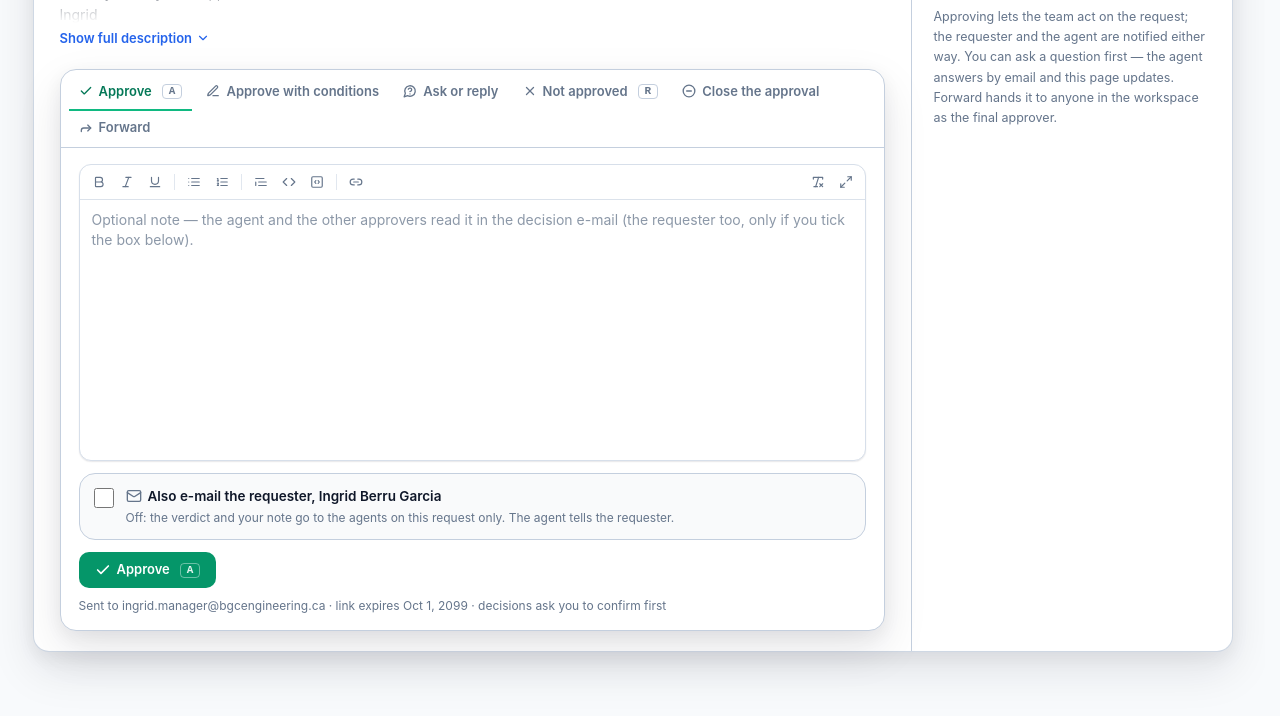
Test: PublicApprovalDecision (approval redesign) › approve posts and swaps the composer for the decided banner (focus lands on it)
(page scrolled)
Click the button "Approve A" at (147, 570), box [78,552,216,588]
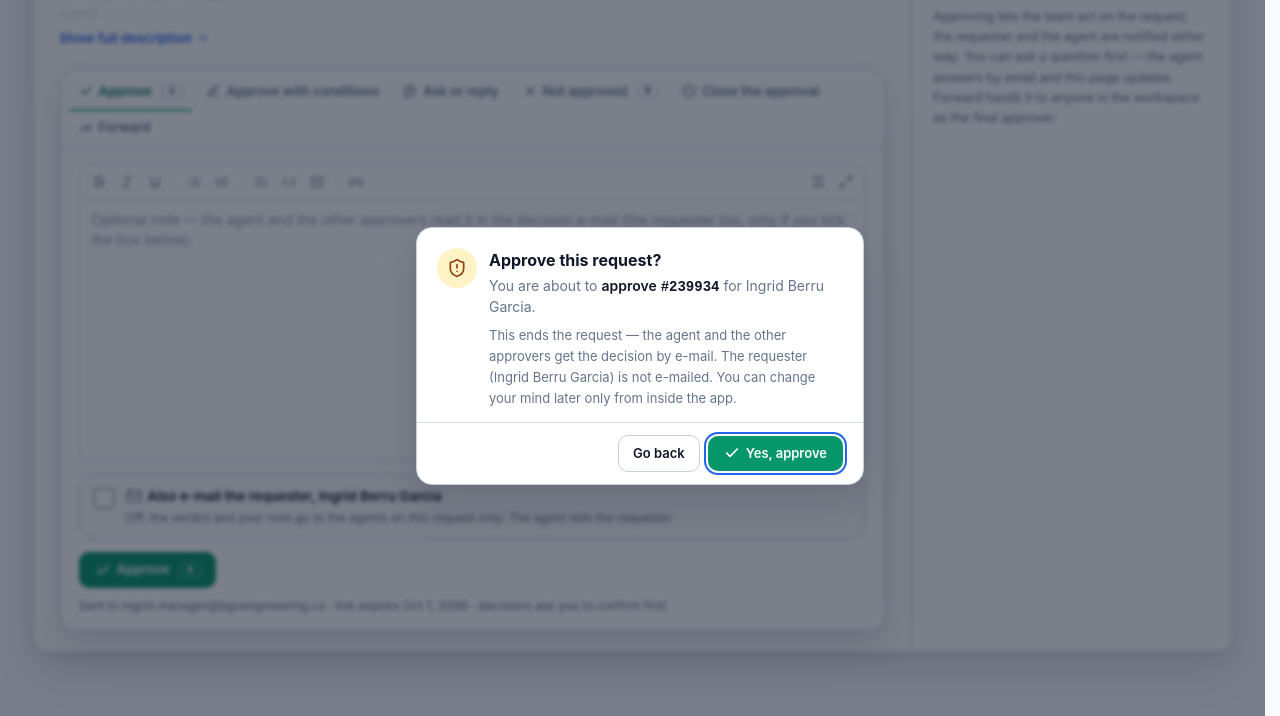
Click the button "Yes, approve" at (775, 453), box [708,436,843,471]
(page scrolled)
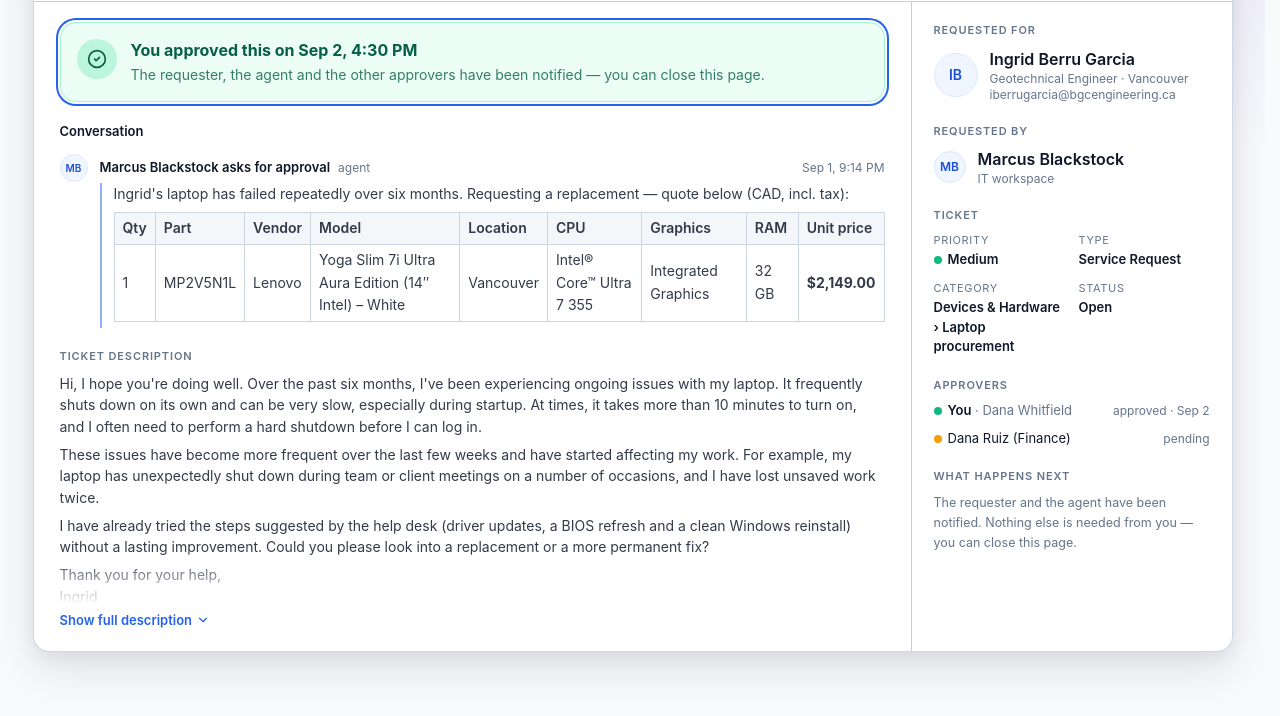
Expected: the element with test id "approval-composer" is gone
Expected: the list item "You · Dana Whitfield approved · Sep 2" is shown, [934,401,1210,421]
